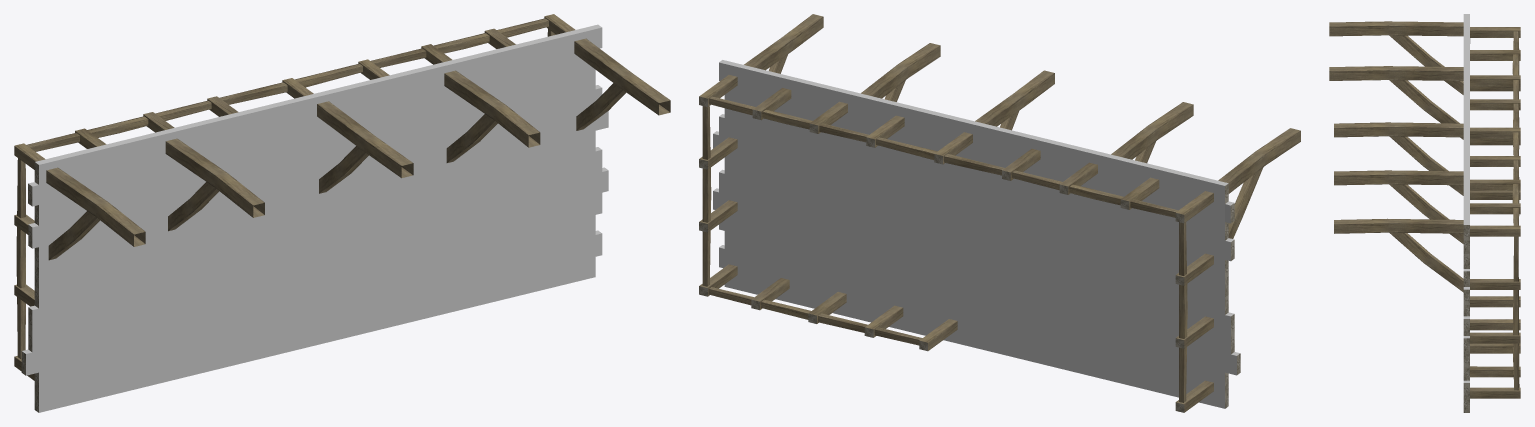
File: Pirate_Bar_Balcony_A.fbx
The picture shows the model from 3 angles, left to right: view 1: azimuth 30°, elevation 25°; view 2: azimuth 150°, elevation 25°; view 3: azimuth 270°, elevation 25°; orthographic projection. The views are drawn at different scales.
Parts seen in each view (by area): view 1: Pirate_Bar_Balcony_A; view 2: Pirate_Bar_Balcony_A; view 3: Pirate_Bar_Balcony_A.
Boxes of the visible parts, x1,y1,x2,y2 form: Pirate_Bar_Balcony_A: [14, 14, 670, 412]; Pirate_Bar_Balcony_A: [699, 14, 1300, 412]; Pirate_Bar_Balcony_A: [1329, 14, 1520, 412].
Size of the model in its own units: 13.9 by 5.65 by 5.15.
